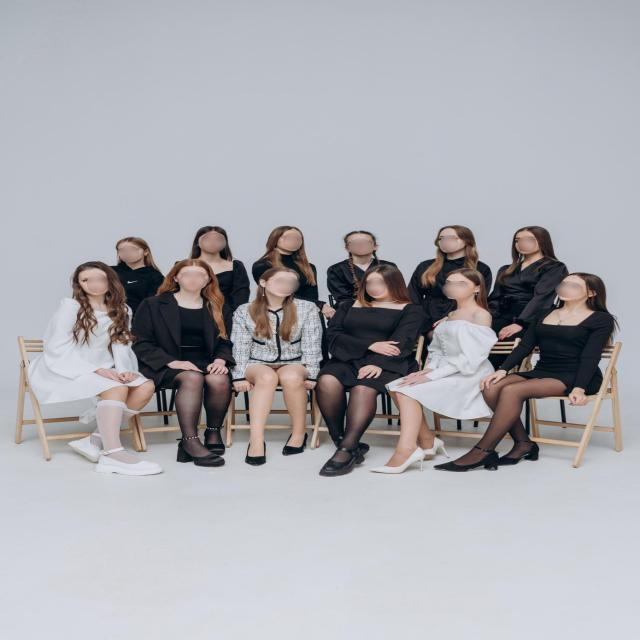Person: (428, 273, 628, 482), (45, 263, 165, 488), (372, 271, 504, 475), (305, 263, 419, 490), (228, 274, 323, 471), (168, 263, 236, 473), (490, 218, 579, 342), (255, 217, 323, 306), (106, 230, 174, 317), (188, 225, 264, 292), (404, 220, 486, 282), (324, 225, 388, 302)
